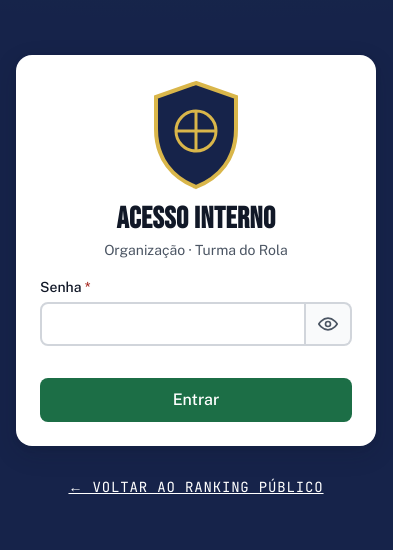
Scenario: LoginForm › erro técnico (classe diferente de RF-07.3) usa mensagem própria, nunca a de senha incorreta
In the password field labelled "Senha *": (173, 324) [40,302,306,346], type "qualquer"
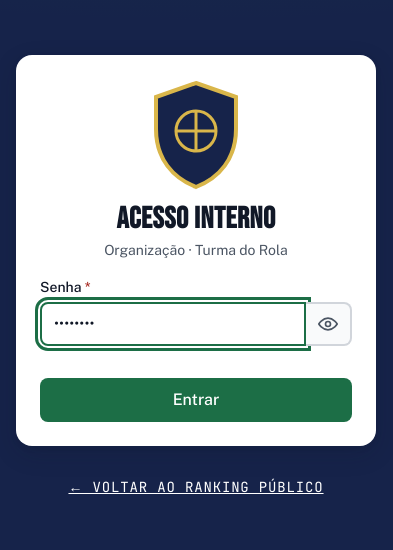
Click the button "Entrar": (196, 400) [40,378,352,422]
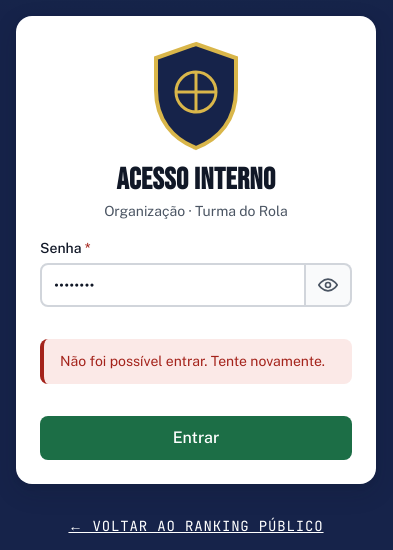
Result: the message reads "Não foi possível entrar. Tente novamente." at [60,353,325,369]
